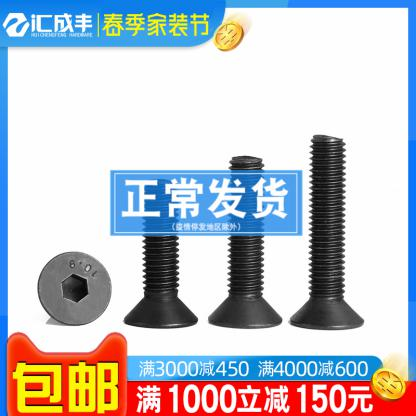FOD: (286, 132, 368, 331), (207, 154, 284, 335), (121, 177, 200, 331), (33, 247, 114, 326)
